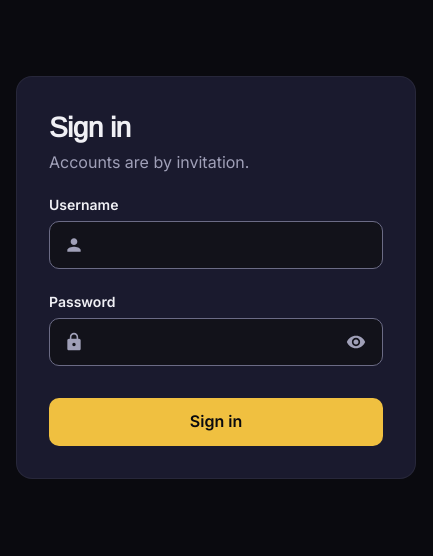
Test: AuthComponent › explains missing fields on submit instead of sending the request
The width and height of the screenshot is (433, 556).
Click the button with class "auth-submit" at (216,422), box [49,398,383,446]
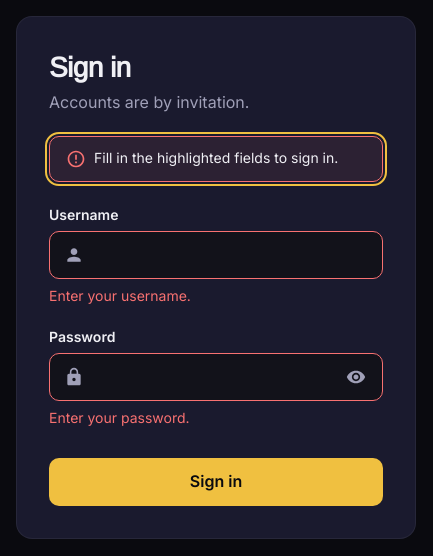
Check: the text with id "login-username-error" reads "Enter your username.", box [49,286,191,304]
